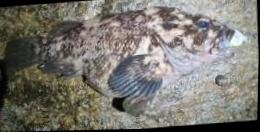fish: (5, 6, 237, 115)
